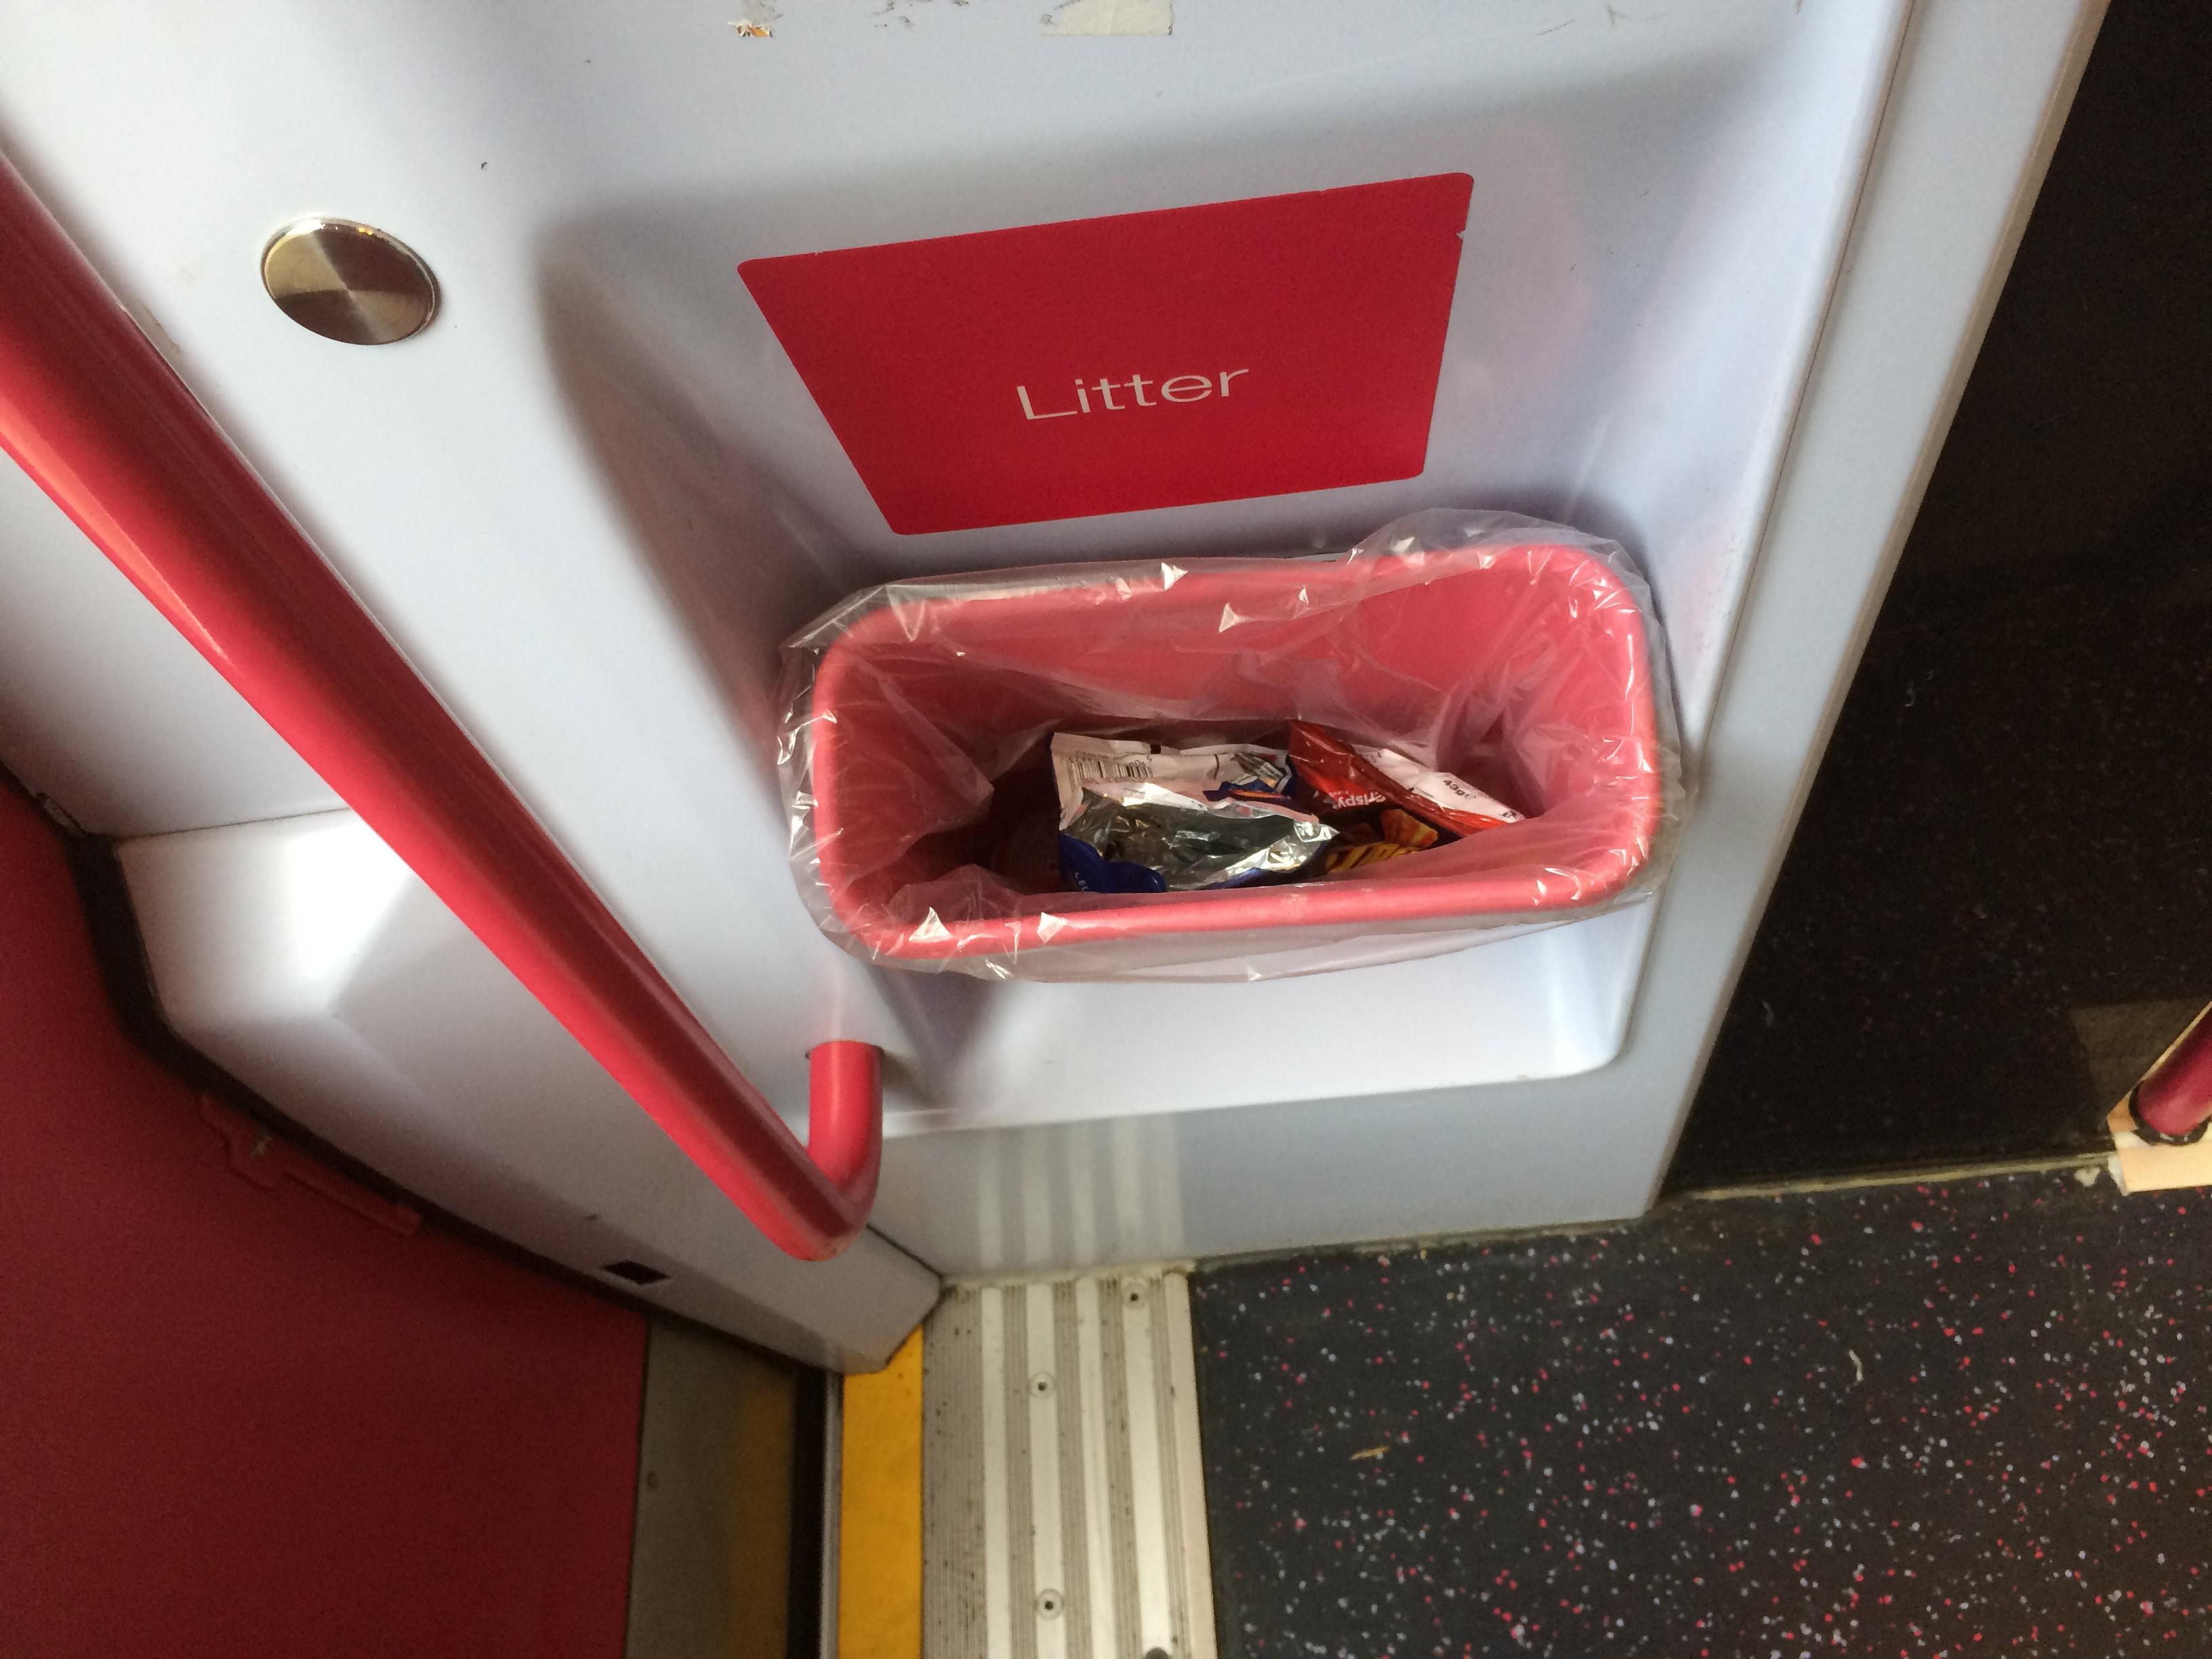Trash: (1049, 713, 1533, 892)
